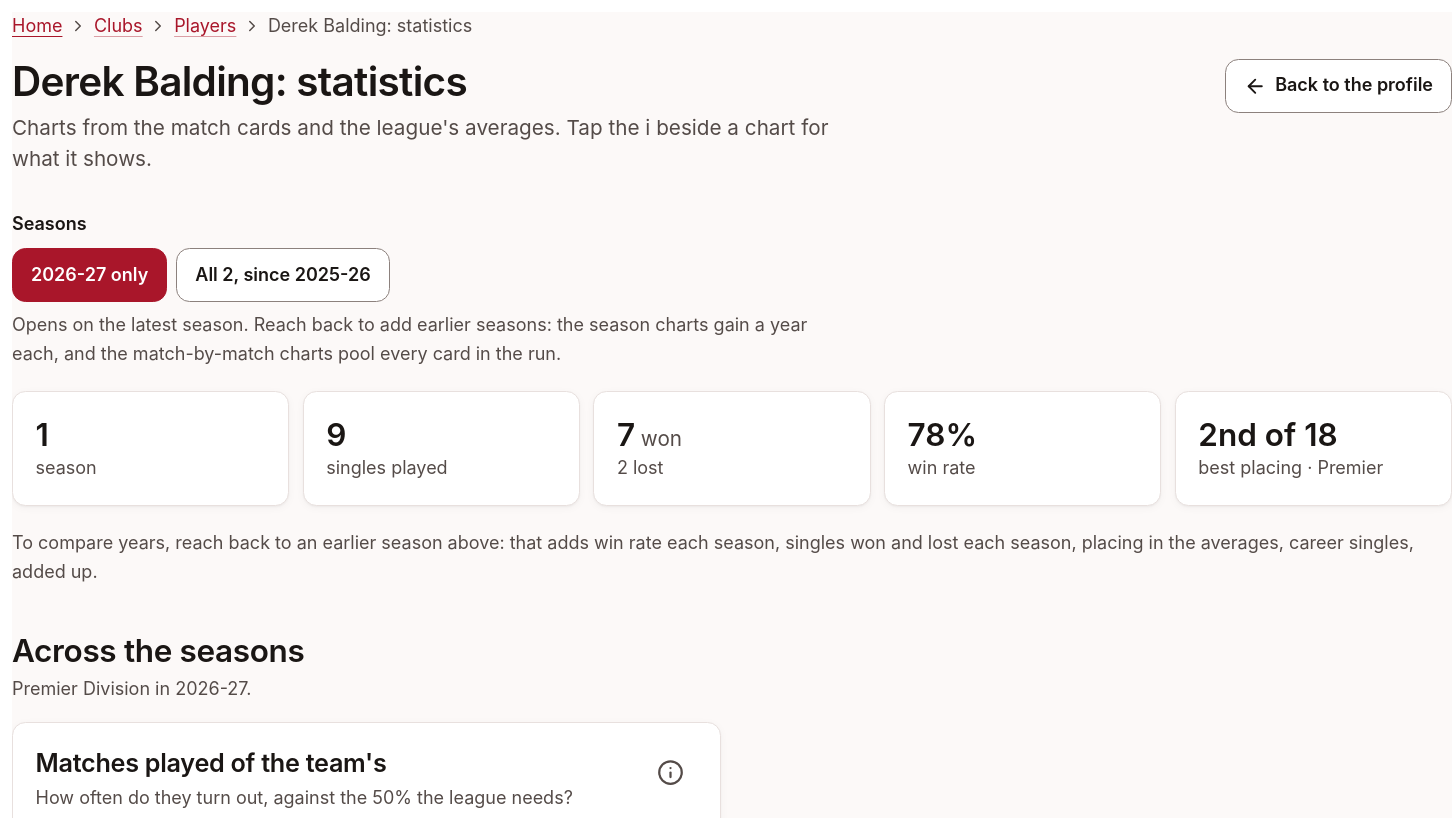
Scenario: the seasons filter › adds the earlier season to the charts and to the totals
Click the button "All 2, since 2025-26". click: (283, 275)
box: [176,248,390,302]
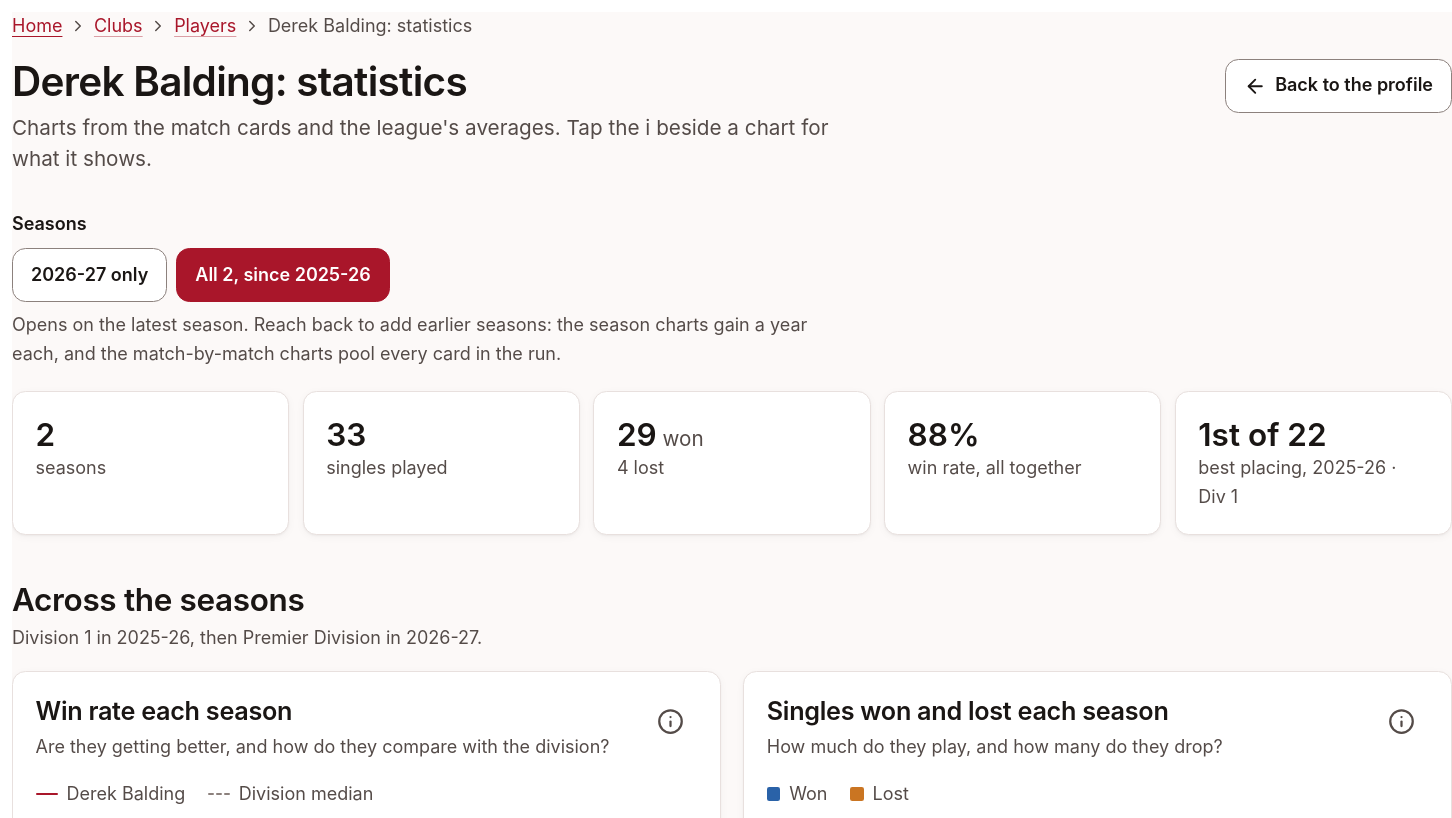
Expected: the heading "Win rate each season" is shown, [36,696,292,726]
Now the text "Division 1 in 2025-26, then Premier Division in 2026-27." is shown, box [12,627,482,648]
